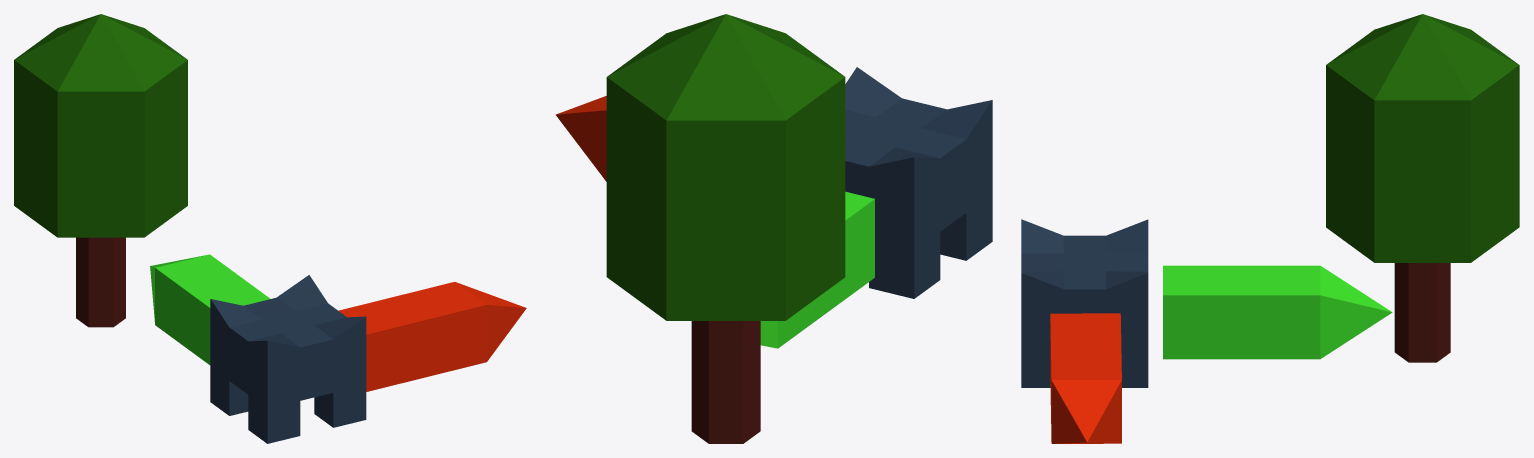
Rendered from castle.fbx.
The picture shows the model from 3 angles, left to right: view 1: azimuth 30°, elevation 25°; view 2: azimuth 150°, elevation 25°; view 3: azimuth 270°, elevation 25°; orthographic projection. The views are drawn at different scales.
Visible parts, largest first — view 1: Cylinder, Cube, Cube.002, Cube.001; view 2: Cylinder, Cube, Cube.001, Cube.002; view 3: Cylinder, Cube.001, Cube, Cube.002.
Boxes of the visible parts, x1,y1,x2,y2 form: Cylinder: (14, 14, 187, 327); Cube: (210, 275, 366, 443); Cube.002: (338, 282, 526, 391); Cube.001: (150, 254, 270, 364); Cylinder: (606, 14, 845, 443); Cube: (845, 67, 992, 298); Cube.001: (760, 191, 874, 348); Cube.002: (556, 96, 606, 181); Cylinder: (1326, 14, 1519, 362); Cube.001: (1163, 265, 1392, 359); Cube: (1021, 219, 1148, 387); Cube.002: (1050, 313, 1121, 443).
Size of what is drawn, in the model's own units: 3.92 by 2.94 by 3.44.
